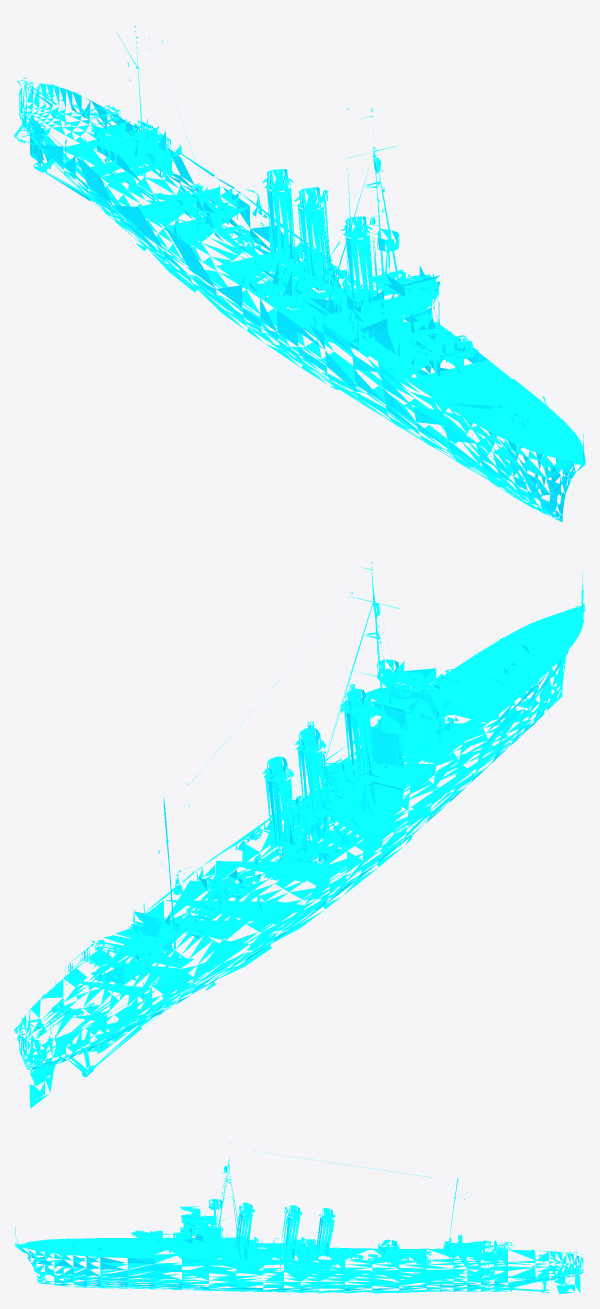
The model's file is Fusilier.glb.
The picture shows the model from 3 angles, top to bottom: view 1: azimuth 30°, elevation 25°; view 2: azimuth 150°, elevation 25°; view 3: azimuth 270°, elevation 25°; orthographic projection. The views are drawn at different scales.
Size of the model in its own units: 0.6589 by 2.03 by 6.7.
